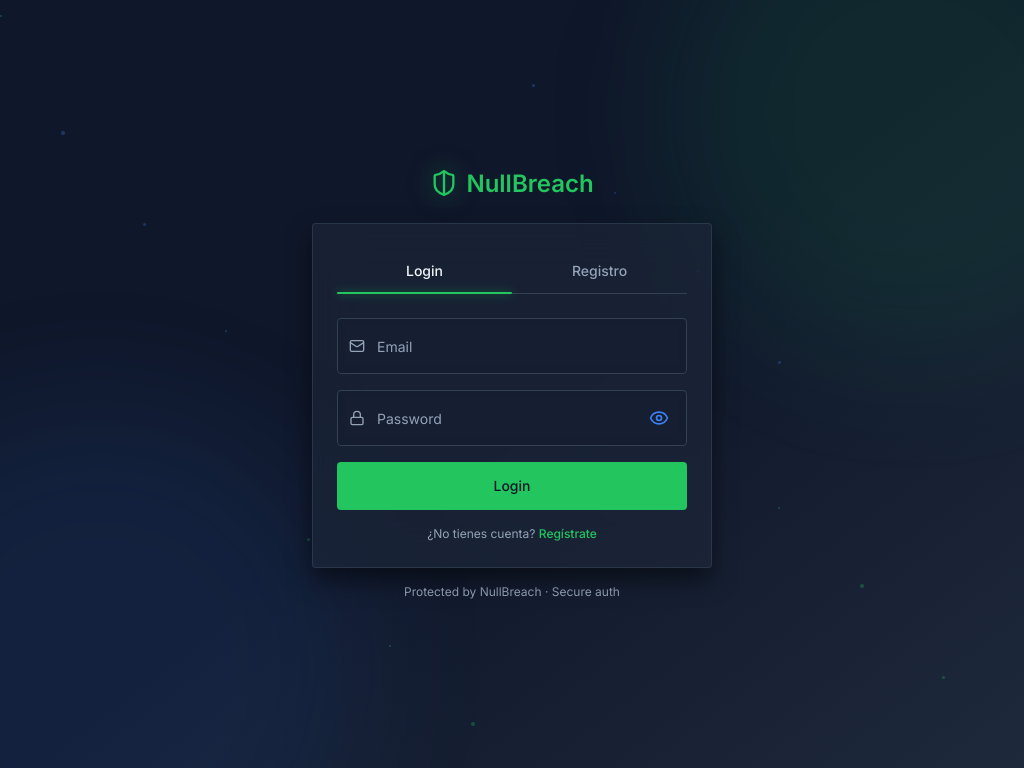
Test case: <Login /> › validates email format
Type "not-an-email" into the field labelled "Email" at [512, 346], box x1=337 y1=318 x2=687 y2=374
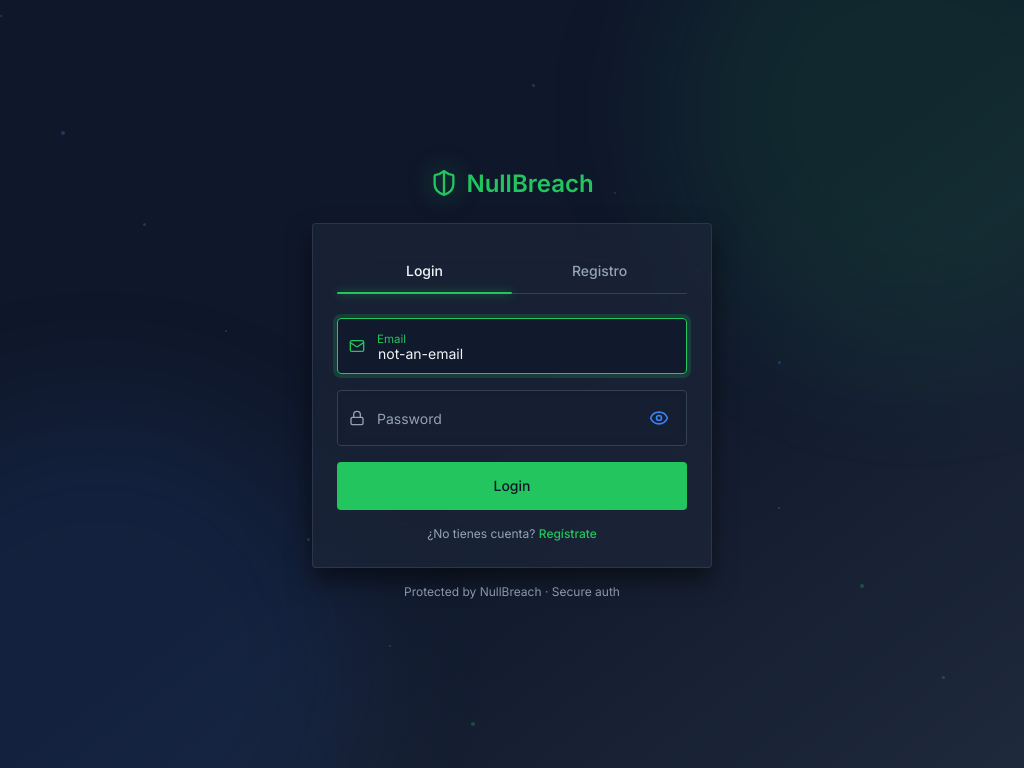
Type "longenough" into the password field labelled "Password" at [512, 418], box x1=337 y1=390 x2=687 y2=446
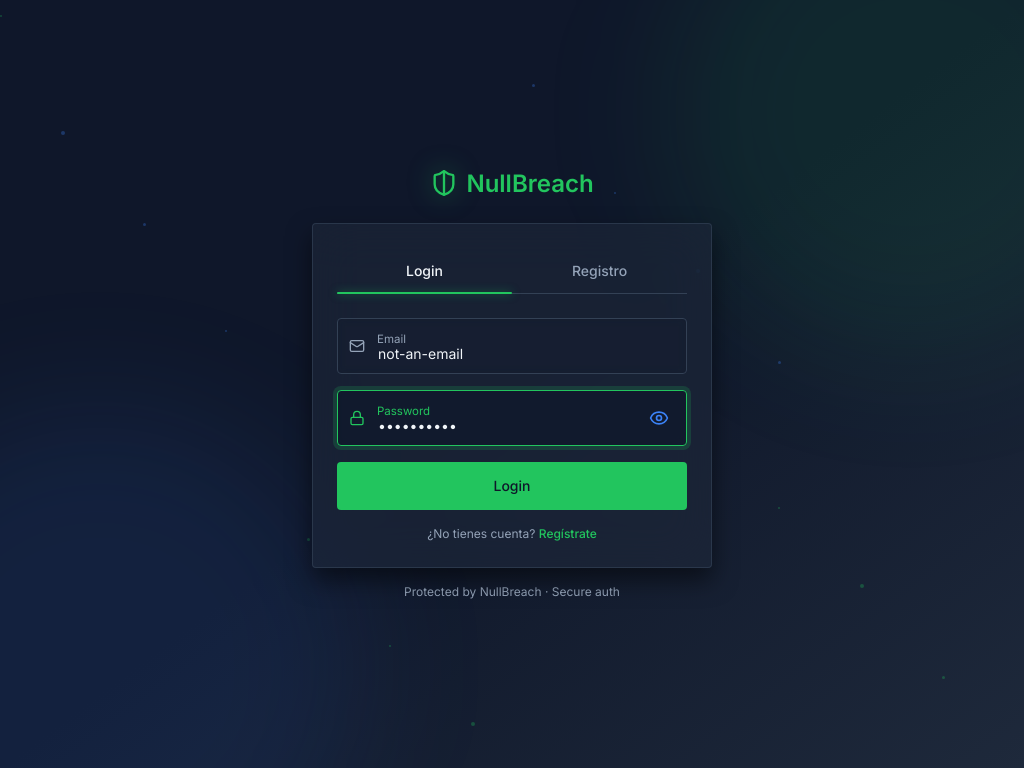
Click the button "Login" at [512, 486], box x1=337 y1=462 x2=687 y2=510
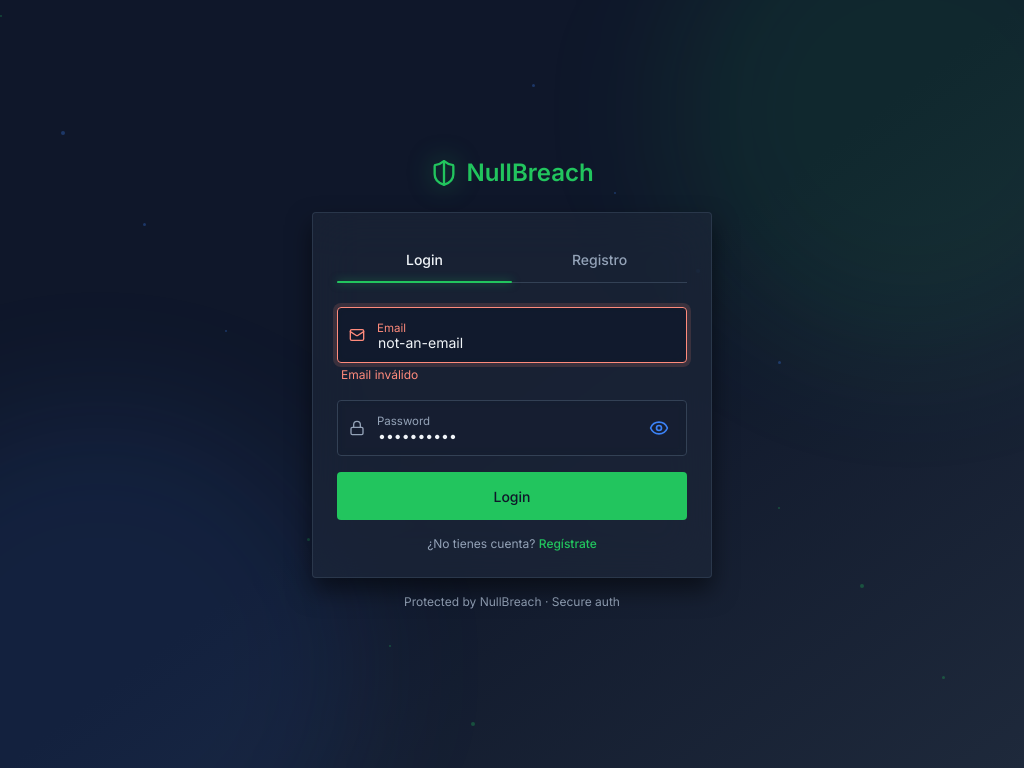
Expected: the text "Email inválido" is shown, x1=341 y1=367 x2=418 y2=382
